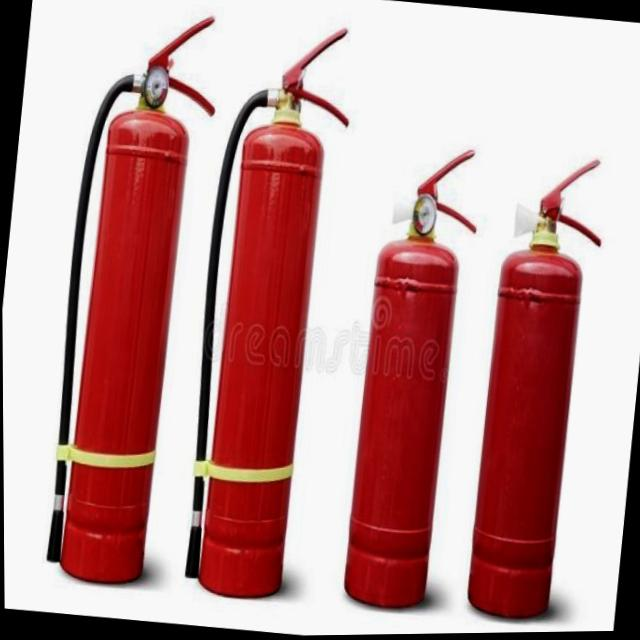FireExtinguisher: (167, 13, 363, 612), (33, 0, 228, 593), (457, 146, 612, 630), (333, 137, 488, 617)
